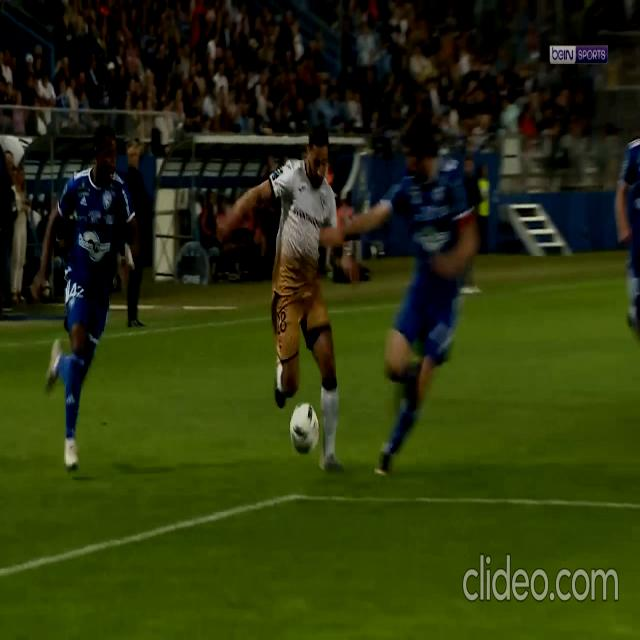goalkeeper: (44, 337, 65, 395)
